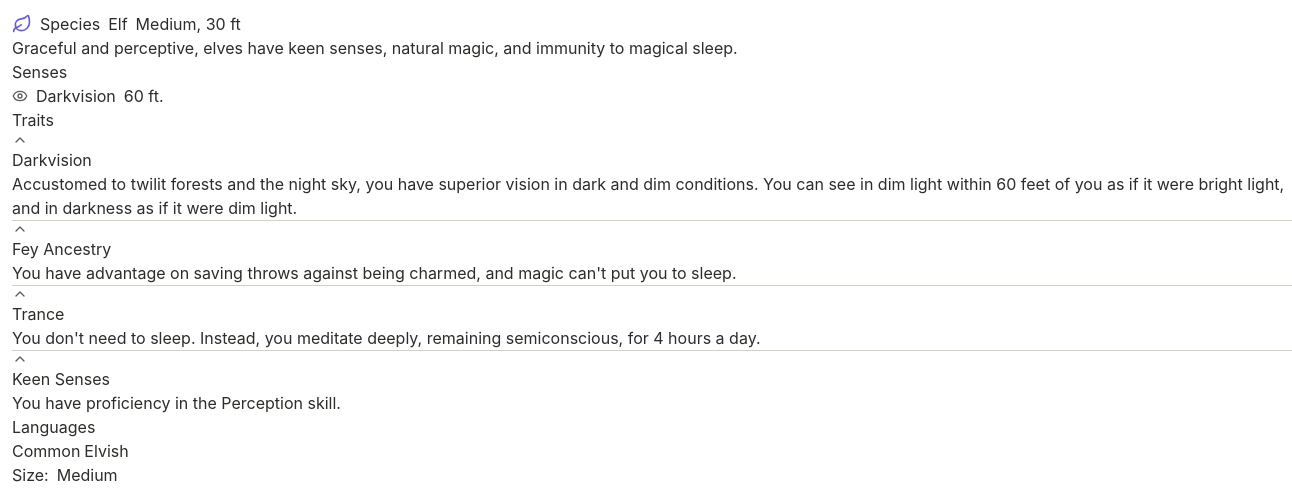
Scenario: SpeciesPanel › toggles expansion state on repeated clicks
Click the button with aria-label "Collapse Darkvision": (52, 152) [12,132,92,172]
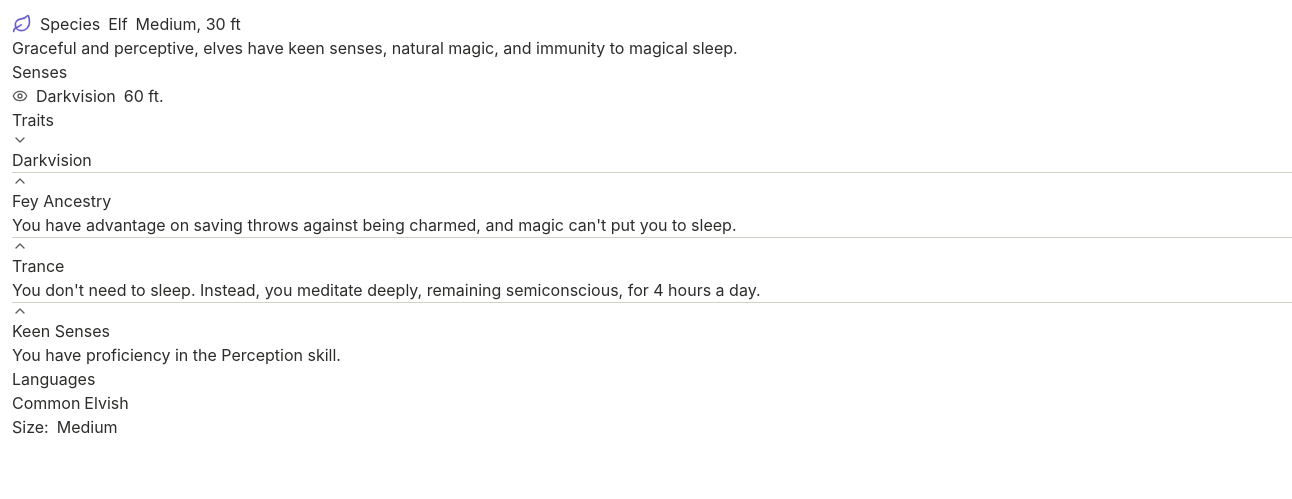
Expected: the button with aria-label "Expand Darkvision" is shown
Click the button with aria-label "Expand Darkvision": (52, 152) [12,132,92,172]
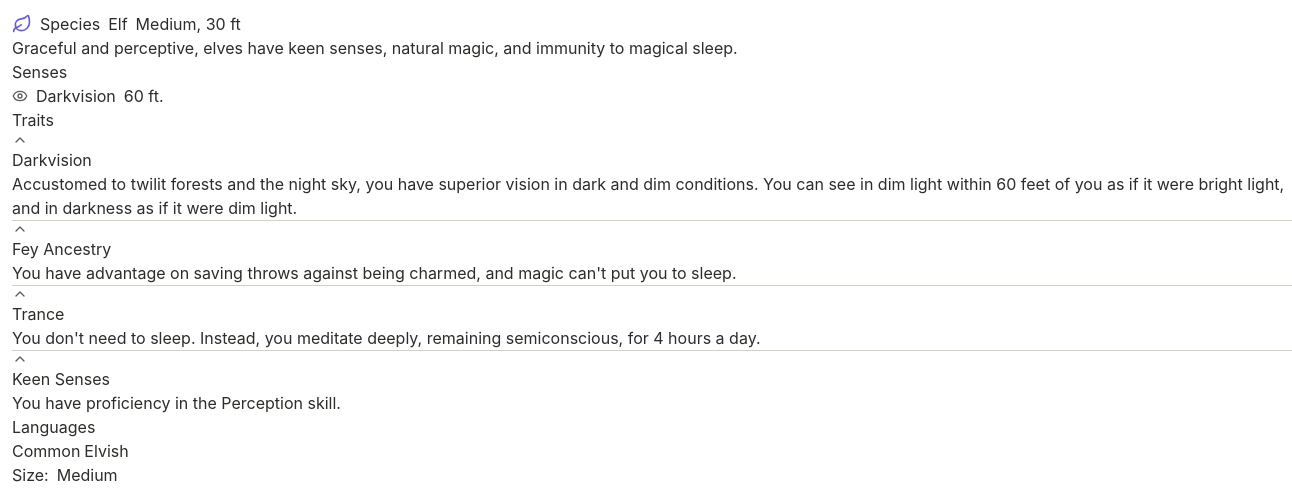
Expected: the button with aria-label "Collapse Darkvision" is shown, [12,132,92,172]
